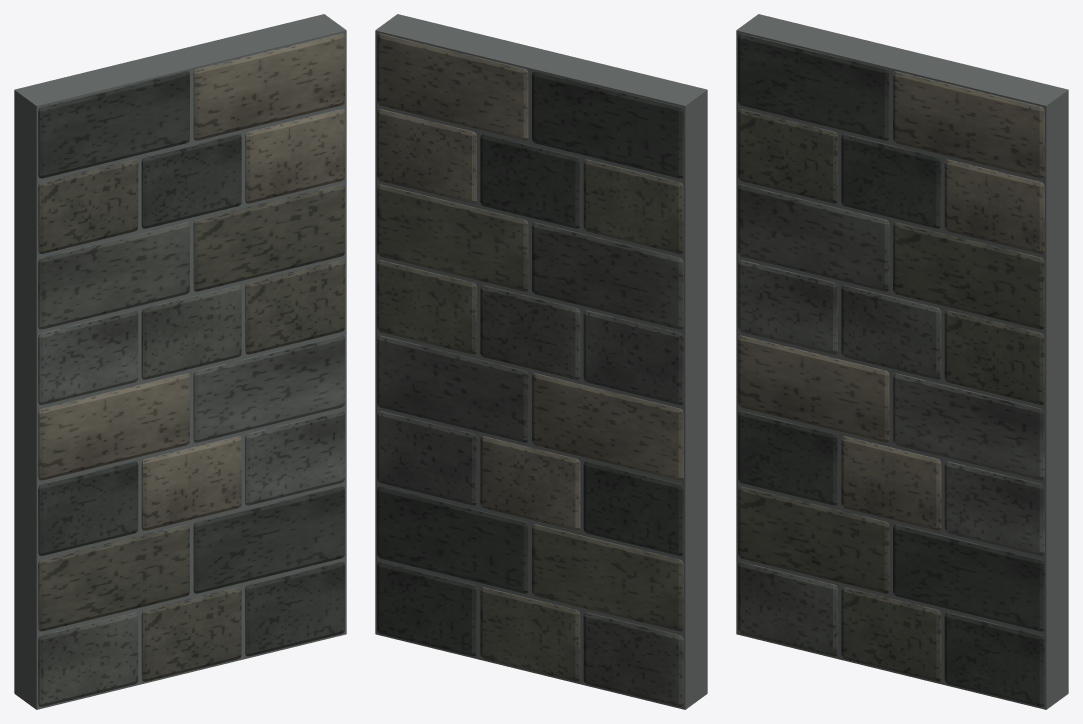
The picture shows the model from 3 angles, left to right: view 1: azimuth 30°, elevation 25°; view 2: azimuth 150°, elevation 25°; view 3: azimuth 330°, elevation 25°; orthographic projection.
Visible parts, largest first — view 1: PM002_Mesh; view 2: PM002_Mesh; view 3: PM002_Mesh.
Boxes of the visible parts, box(x1,y1,x2,y2) form: PM002_Mesh: box(14, 14, 346, 709); PM002_Mesh: box(375, 14, 707, 709); PM002_Mesh: box(736, 14, 1068, 709).
Bounding box in the file's own units: 1.72 × 3.2 × 0.24.
6 materials, 5 textured.
